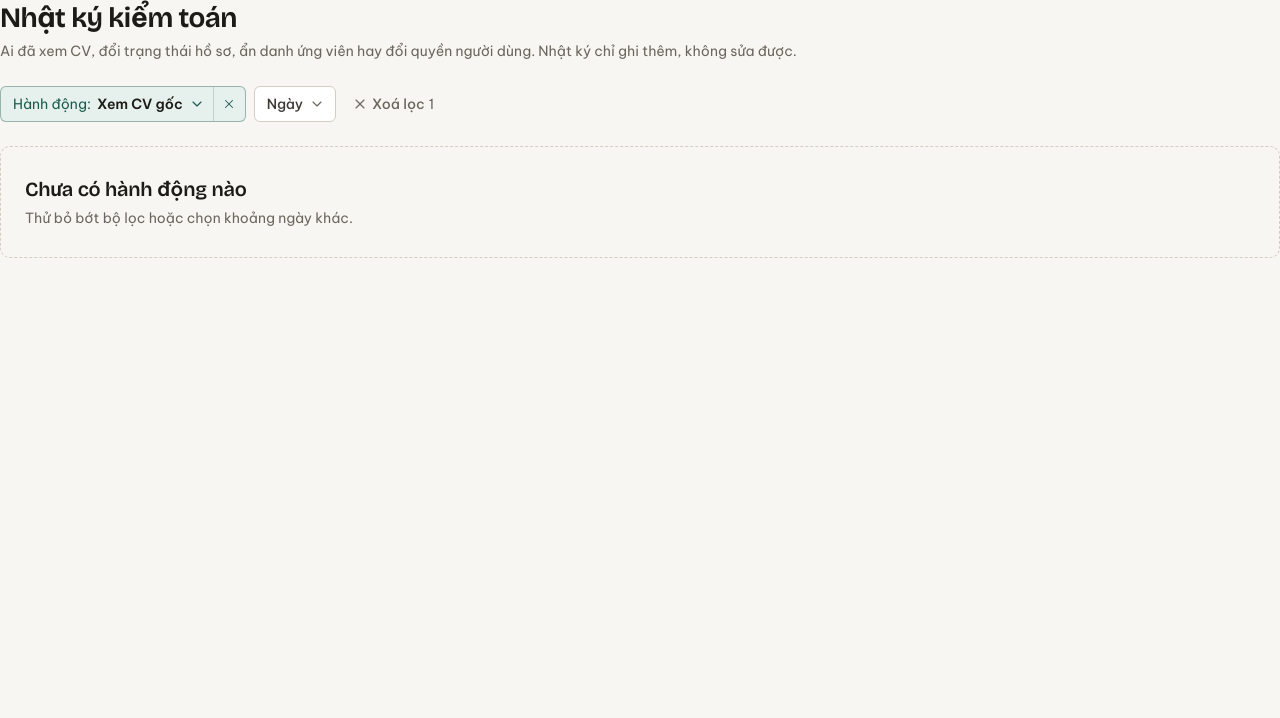
Scenario: AuditLogPage › filters by action from the URL and shows an empty state
expect the text "Chưa có hành động nào" is shown: met, box [25,177,247,201]
Click the button named "Bỏ lọc Hành động".
click(229, 104)  # box [213,87,245,121]
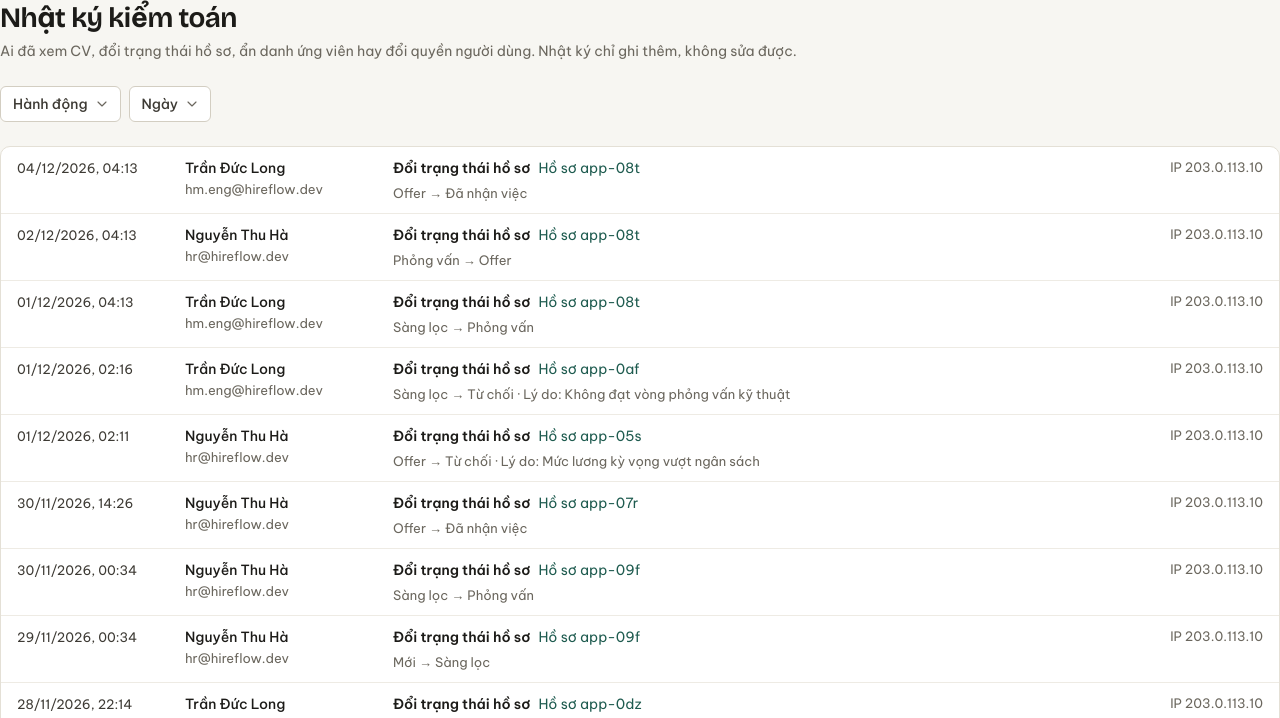
expect the link "Hồ sơ app-08t" in the row of "04/12/2026, 04:13" is shown: met, box [538,157,640,179]
